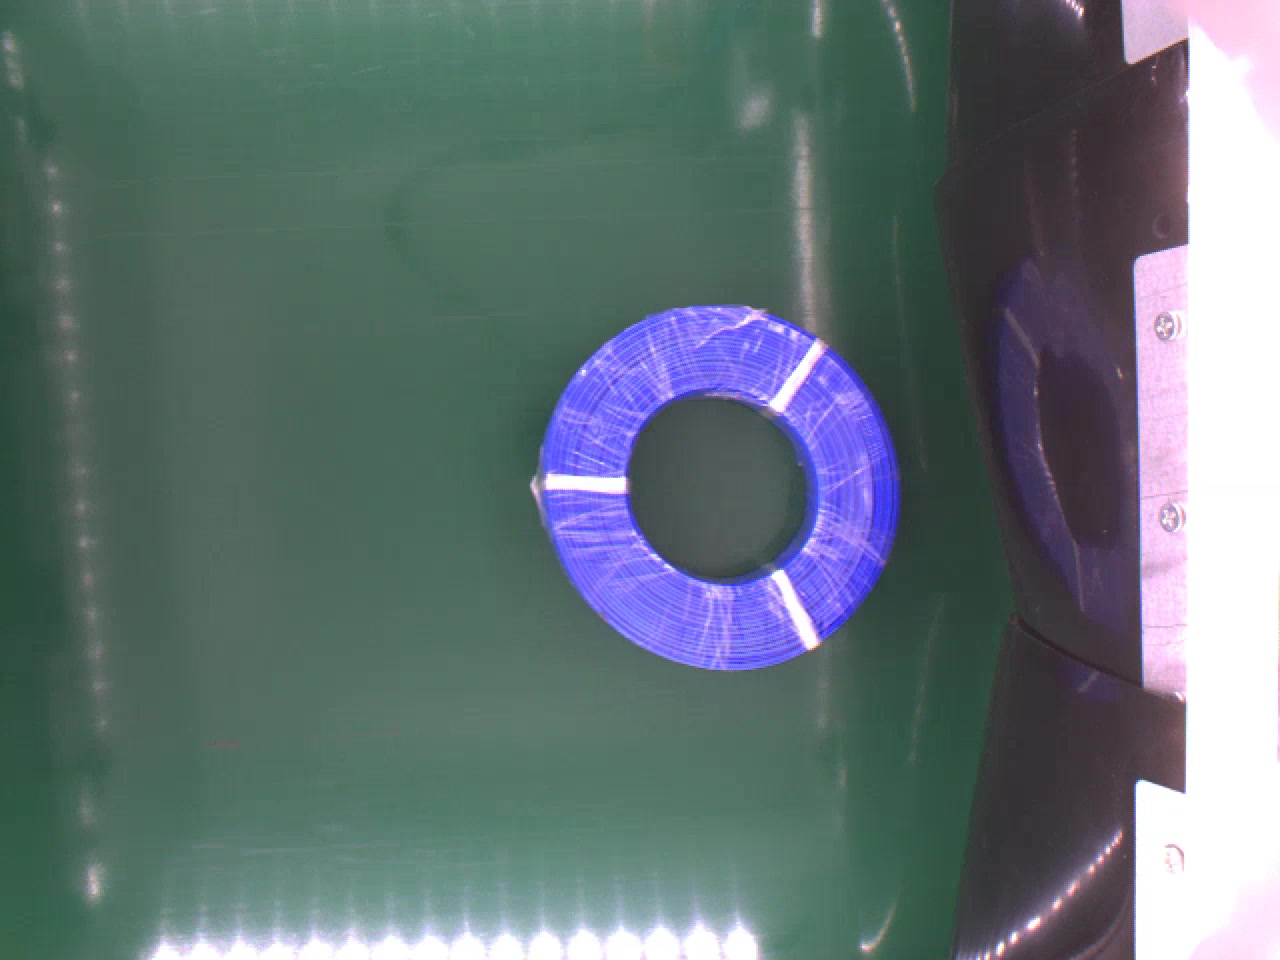blue: (526, 296, 908, 680)
